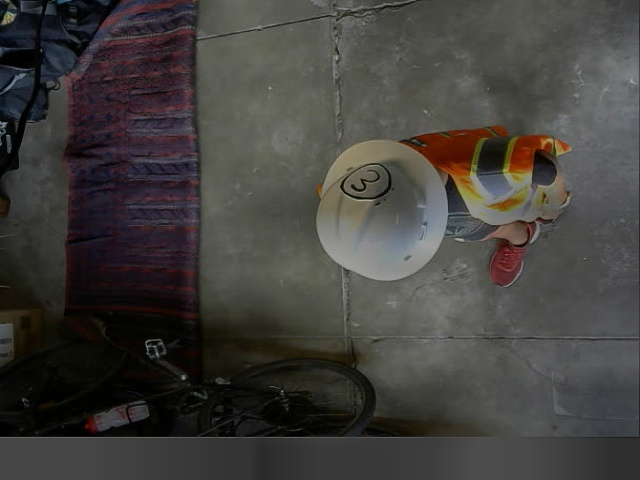three: (339, 163, 392, 198)
